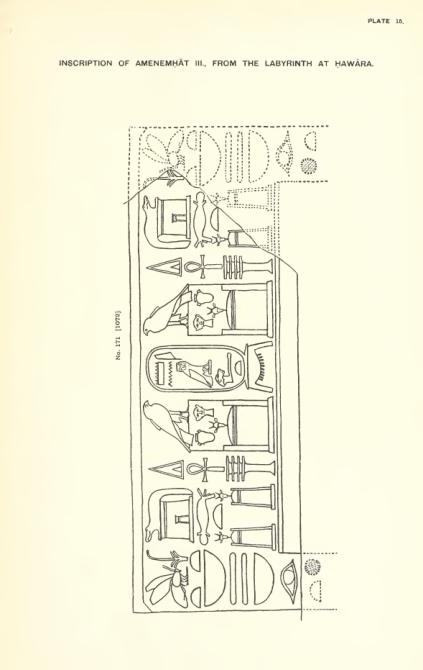circle: (144, 344, 254, 390)
